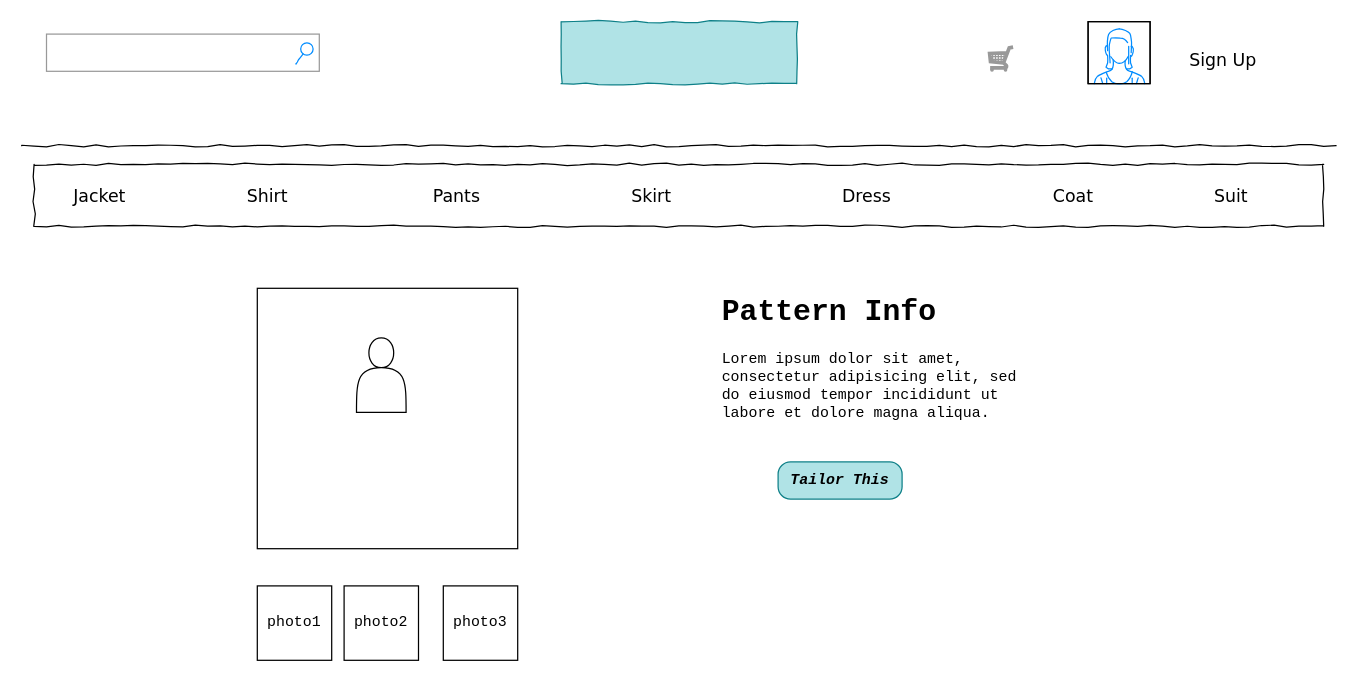
Some shapes in this 1358 by 682 pixel diagram are drawn without their labels. Here are the shapes that lost their labels. From the top down, the centre of each, then its label:
the point at 182,52: Search
the point at 678,52: Sew Me
